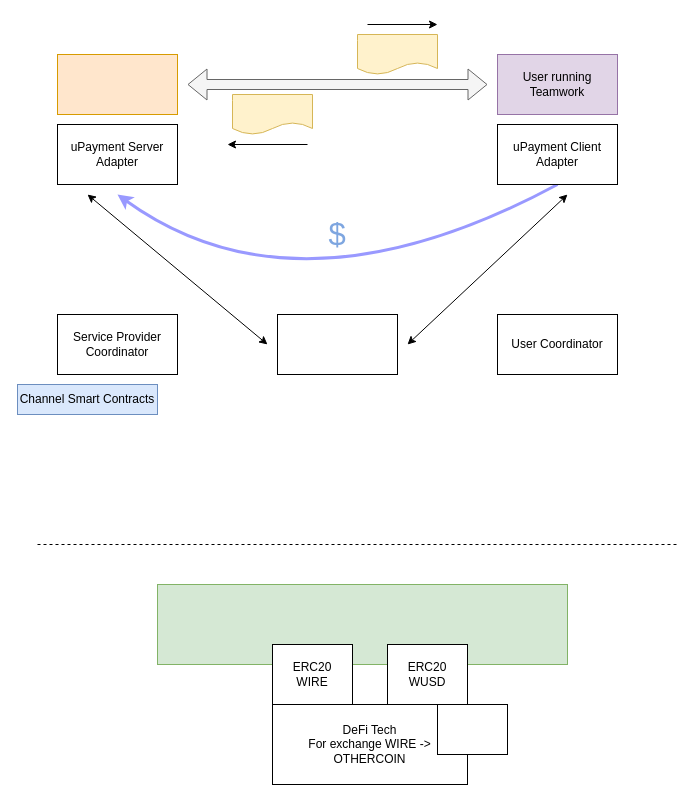
This 696x802 diagram has some shape labels left out. Each missing label, with the centre of its shape:
"Channel Hub" belongs at (337,344).
"Ethereum" belongs at (362,624).
"Kube running mesh signal" belongs at (117,84).
"Stablecoin Pool" belongs at (472,729).
